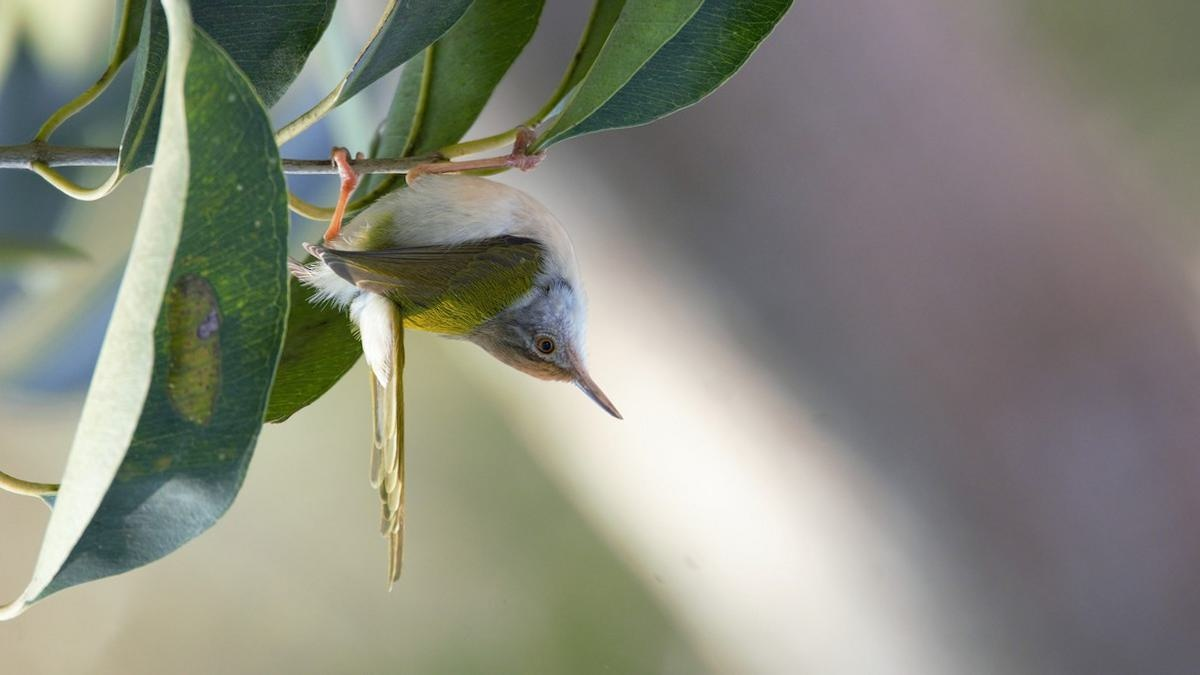tailorbird: (279, 108, 641, 562)
